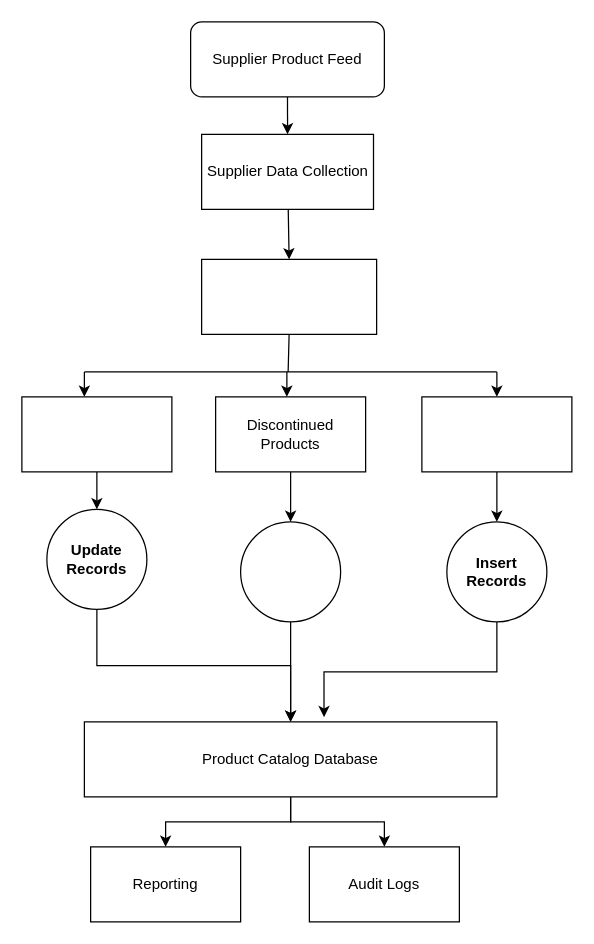
This 594x944 diagram has some shape labels left out. Here are the shapes that lost their labels. From the top down, the box of each, then its label:
(200, 258, 377, 334): Data Validation & Processing
(21, 396, 172, 472): Existing Products
(421, 396, 572, 472): New Products
(239, 521, 341, 622): Disable Records
